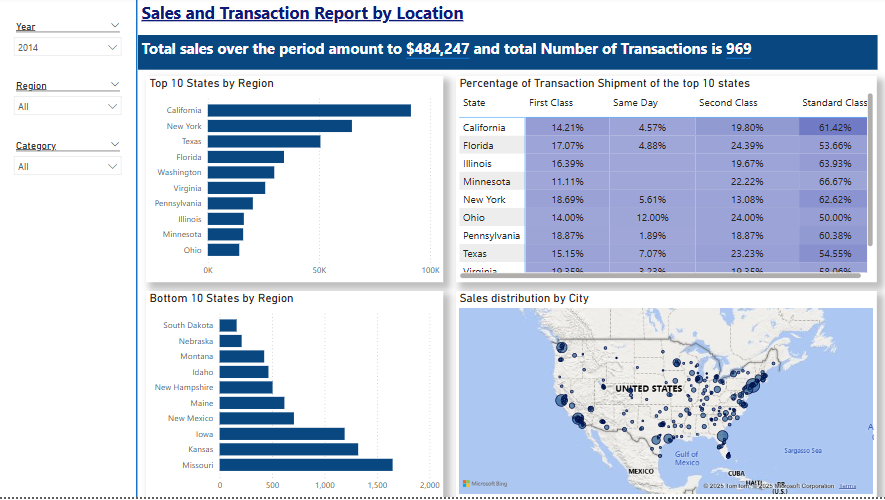

The dashboard page shown, as its layout file describes it:
{"tool":"powerbi","page":{"name":"Location Report","canvas":[1280,720],"ordinal":2},"visuals":[{"type":"shape","box":[186.5,0,25.2,720.6],"z":0},{"type":"textbox","box":[199.9,0,524.1,43.7],"z":1000},{"type":"textbox","box":[199.9,55.4,1065,50.4],"z":2000},{"type":"slicer","fields":{"Values":["Orders.Order Date.Variation.Date Hierarchy.Year"]},"box":[11.8,28.6,174.7,77.3],"z":3000},{"type":"slicer","fields":{"Values":["Orders.Region"]},"box":[11.8,114.2,174.7,77.3],"z":4000},{"type":"slicer","fields":{"Values":["Orders.Category"]},"box":[11.8,199.9,174.7,77.3],"z":5000},{"type":"barChart","title":"Top 10 States by Region","fields":{"Y":["Sum(Orders.Sales)"],"Category":["Orders.State"]},"box":[211.7,114.2,428.3,297.3],"z":6000},{"type":"barChart","title":"Bottom 10 States by Region","fields":{"Y":["Sum(Orders.Sales)"],"Category":["Orders.State"]},"box":[211.7,423.3,428.3,297.3],"z":7000},{"type":"pivotTable","title":"Percentage of Transaction Shipment of the top 10 states","fields":{"Rows":["Orders.State"],"Columns":["Orders.Ship Mode"],"Values":["Min(Orders.Order ID)"]},"box":[658.5,114.2,606.4,297.3],"z":8000},{"type":"map","title":"Sales distribution by City","fields":{"Category":["Orders.City Country"],"Size":["Sum(Orders.Sales)"]},"box":[658.5,423.3,606.4,297.3],"z":9000}]}

Visuals, with their boxes in screenshot pixels (x1, y1, x2, y2), scaled from the page's 1280x720 canvas onto the 885x500 screenshot:
shape: Rect(129, 0, 146, 499)
textbox: Rect(138, 0, 501, 30)
textbox: Rect(138, 38, 875, 73)
slicer - Orders.Order Date.Variation.Date Hierarchy.Year: Rect(8, 20, 129, 74)
slicer - Orders.Region: Rect(8, 79, 129, 133)
slicer - Orders.Category: Rect(8, 139, 129, 192)
"Top 10 States by Region" barChart: Rect(146, 79, 442, 286)
"Bottom 10 States by Region" barChart: Rect(146, 294, 442, 499)
"Percentage of Transaction Shipment of the top 10 states" pivotTable: Rect(455, 79, 875, 286)
"Sales distribution by City" map: Rect(455, 294, 875, 499)
